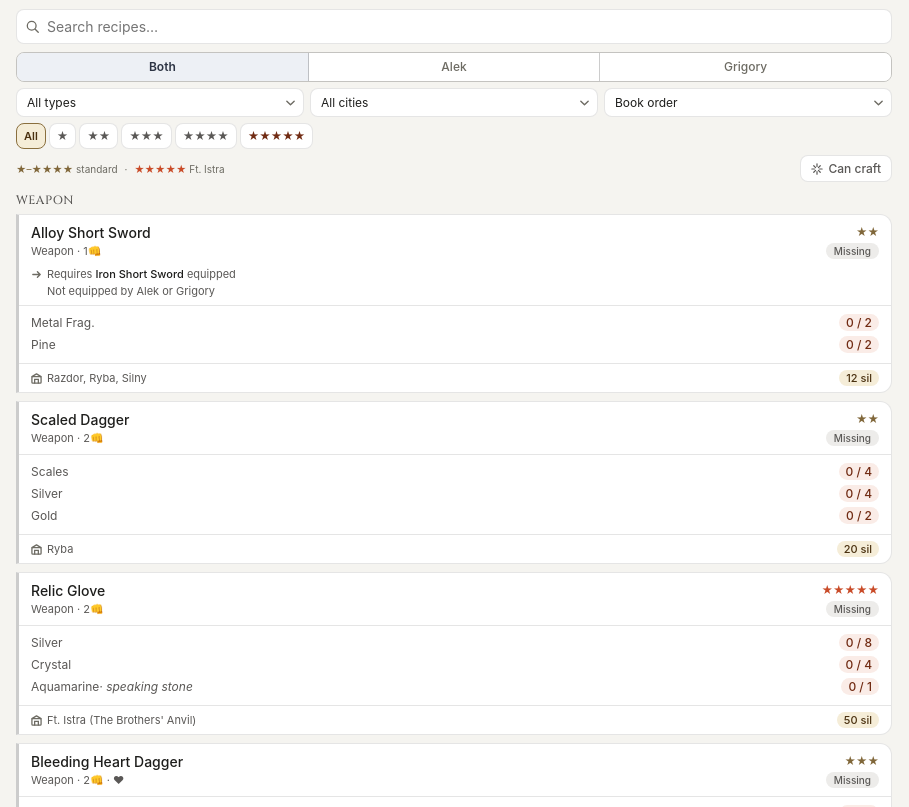
Test: CraftTab — upgrade comparison › marks the equipped item and mutes it
This screenshot has width=909, height=807.
Click the button "Grigory": click(746, 67) [600,53,891,81]
(page scrolled)
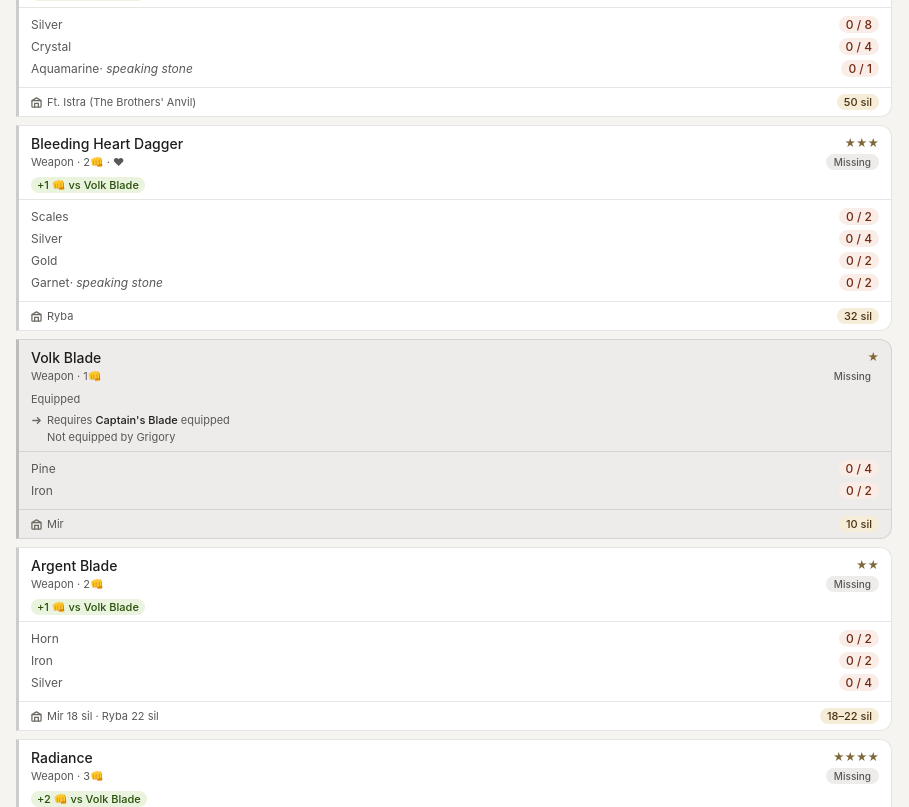
Expected: the element with class "craft-upgrade" reads "Equipped", [31,392,80,406]
